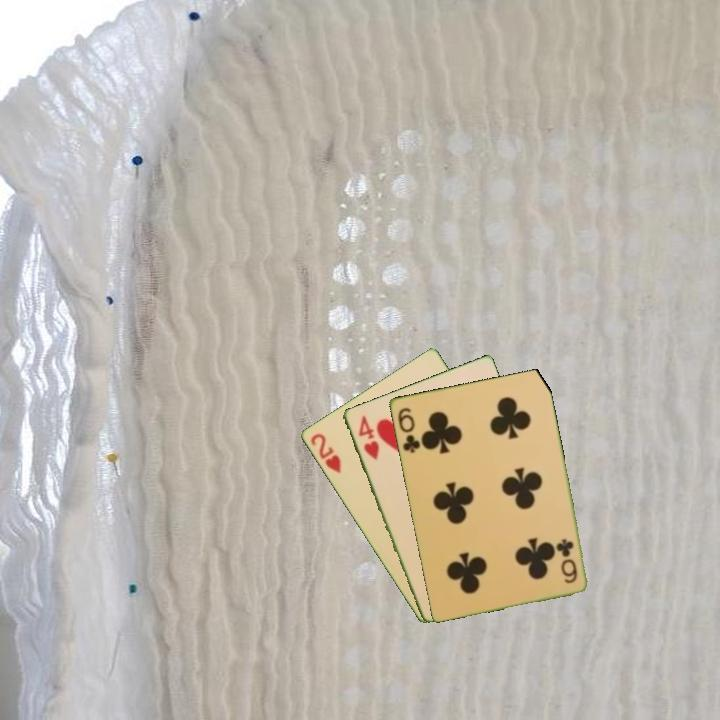2h: (307, 429, 344, 476)
4h: (355, 411, 382, 463)
6c: (394, 404, 423, 455), (554, 535, 580, 586)
